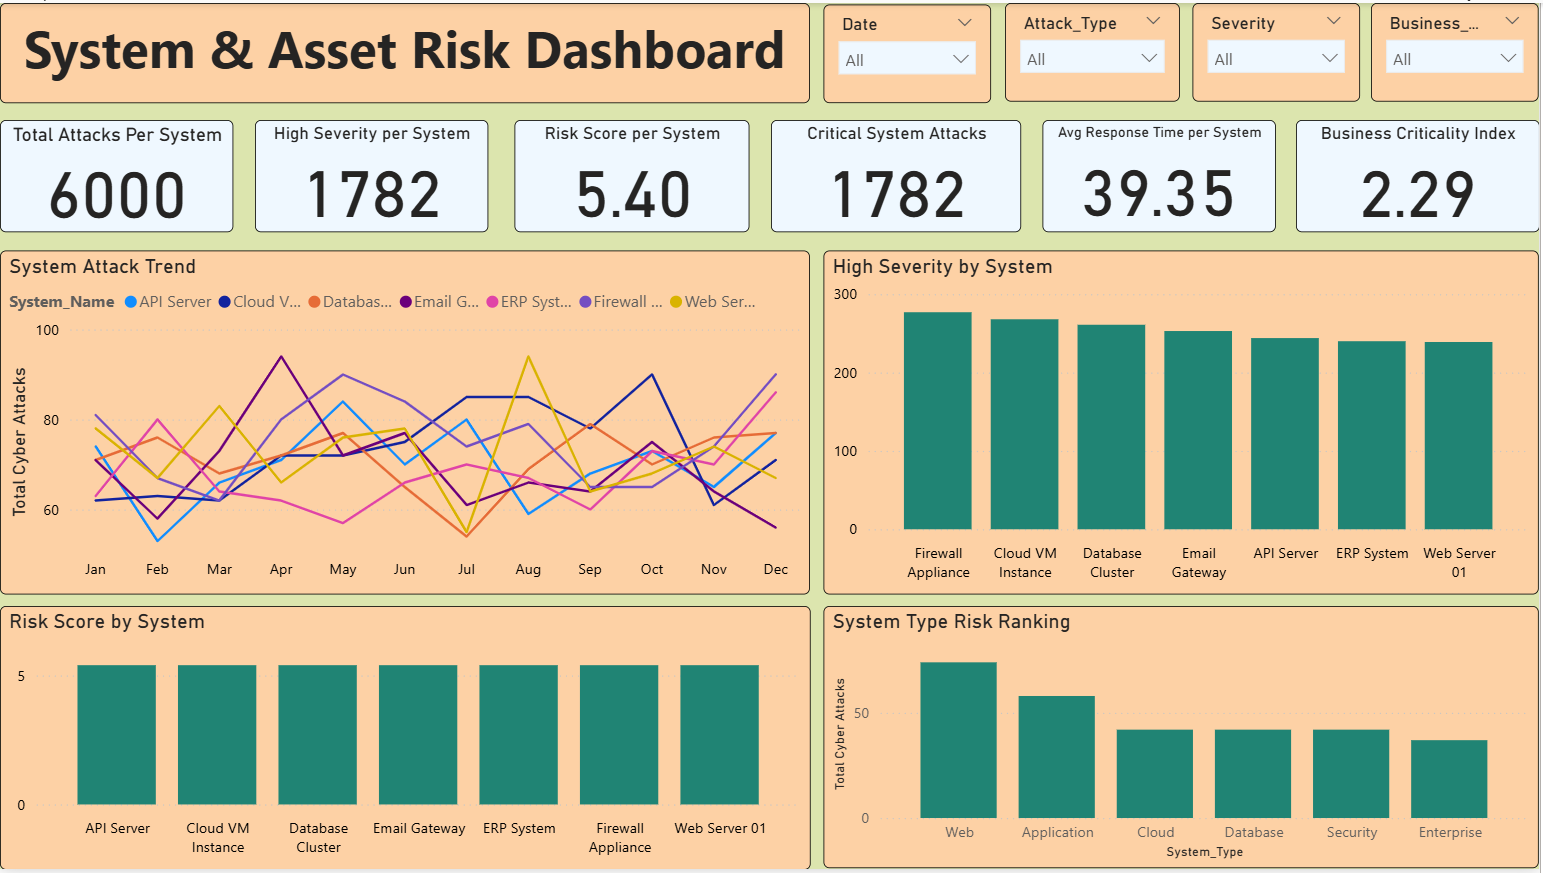

Layout of this report page (visuals, bound fields, positions):
{"tool":"powerbi","page":{"name":"System & Asset Risk Dashboard","canvas":[1280,720],"ordinal":4},"visuals":[{"type":"textbox","box":[0,0,673.5,83.3],"z":0},{"type":"slicer","fields":{"Values":["Date_Table.Date"]},"box":[685,1.4,139.3,81.9],"z":1000},{"type":"slicer","fields":{"Values":["Attack_Type.Attack_Type"]},"box":[835.8,0,145,81.9],"z":2000},{"type":"slicer","fields":{"Values":["Severity.Severity_Level"]},"box":[990.9,0,139.3,81.9],"z":3000},{"type":"slicer","fields":{"Values":["Affected_System.Business_Criticality"]},"box":[1140.2,0,139.3,81.9],"z":4000},{"type":"card","title":"Total Attacks Per System","fields":{"Values":["Security_Events.Total Cyber Attacks"]},"box":[0,97.7,193.9,93.3],"z":5000},{"type":"card","title":"High Severity per System","fields":{"Values":["Security_Events.High Severity Attacks"]},"box":[212.5,97.7,193.9,93.3],"z":6000},{"type":"card","title":"Risk Score per System","fields":{"Values":["Security_Events.Risk Severity Score"]},"box":[427.9,97.7,195.3,93.3],"z":7000},{"type":"card","title":"Critical System Attacks","fields":{"Values":["Security_Events.Critical Attacks"]},"box":[640.5,97.7,208.2,93.3],"z":8000},{"type":"card","title":"Avg Response Time per System","fields":{"Values":["Security_Events.Avg Response Time"]},"box":[867.4,97.7,193.9,93.3],"z":9000},{"type":"card","title":"Business Criticality Index","fields":{"Values":["Security_Events.Business Criticality Index"]},"box":[1077,97.7,202.5,93.3],"z":10000},{"type":"lineChart","title":"System Attack Trend","fields":{"Series":["Affected_System.System_Name"],"Y":["Security_Events.Total Cyber Attacks"],"Category":["Date_Table.Month"]},"box":[0,205.4,673.5,285.8],"z":11000},{"type":"columnChart","title":"High Severity by System","fields":{"Category":["Affected_System.System_Name"],"Y":["Security_Events.High Severity Attacks"]},"box":[685,205.4,594.5,285.8],"z":12000},{"type":"columnChart","title":"Risk Score by System","fields":{"Category":["Affected_System.System_Name"],"Y":["Security_Events.Risk Severity Score"]},"box":[0,501,674,219],"z":13000},{"type":"columnChart","title":"System Type Risk Ranking","fields":{"Category":["Affected_System.System_Type"],"Y":["Security_Events.Total Cyber Attacks"]},"box":[685,501.2,594.5,218.3],"z":14000}]}

Visuals, with their boxes in screenshot pixels (x1, y1, x2, y2), scaled from the page's 1280x720 canvas onto the 1543x873 screenshot:
textbox: detection(0, 0, 812, 101)
slicer - Date_Table.Date: detection(826, 2, 994, 101)
slicer - Attack_Type.Attack_Type: detection(1008, 0, 1182, 99)
slicer - Severity.Severity_Level: detection(1194, 0, 1362, 99)
slicer - Affected_System.Business_Criticality: detection(1374, 0, 1542, 99)
"Total Attacks Per System" card: detection(0, 118, 234, 232)
"High Severity per System" card: detection(256, 118, 490, 232)
"Risk Score per System" card: detection(516, 118, 751, 232)
"Critical System Attacks" card: detection(772, 118, 1023, 232)
"Avg Response Time per System" card: detection(1046, 118, 1279, 232)
"Business Criticality Index" card: detection(1298, 118, 1542, 232)
"System Attack Trend" lineChart: detection(0, 249, 812, 596)
"High Severity by System" columnChart: detection(826, 249, 1542, 596)
"Risk Score by System" columnChart: detection(0, 607, 812, 872)
"System Type Risk Ranking" columnChart: detection(826, 608, 1542, 872)
